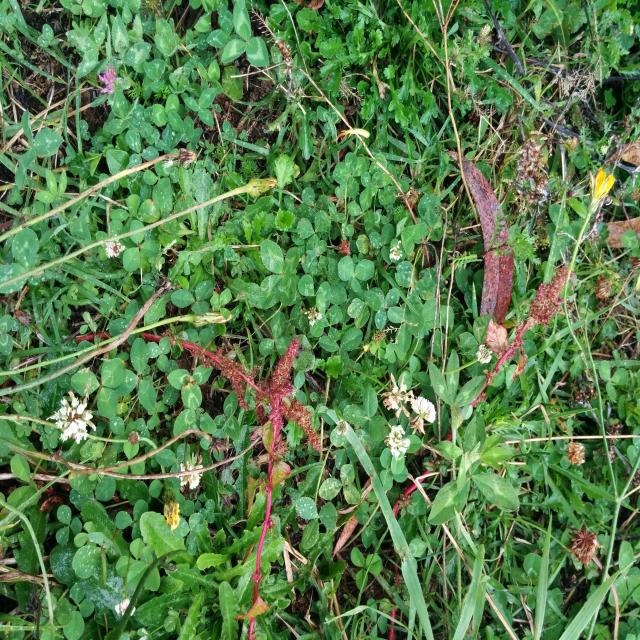Four Leaf Clover: (258, 240, 300, 309)
